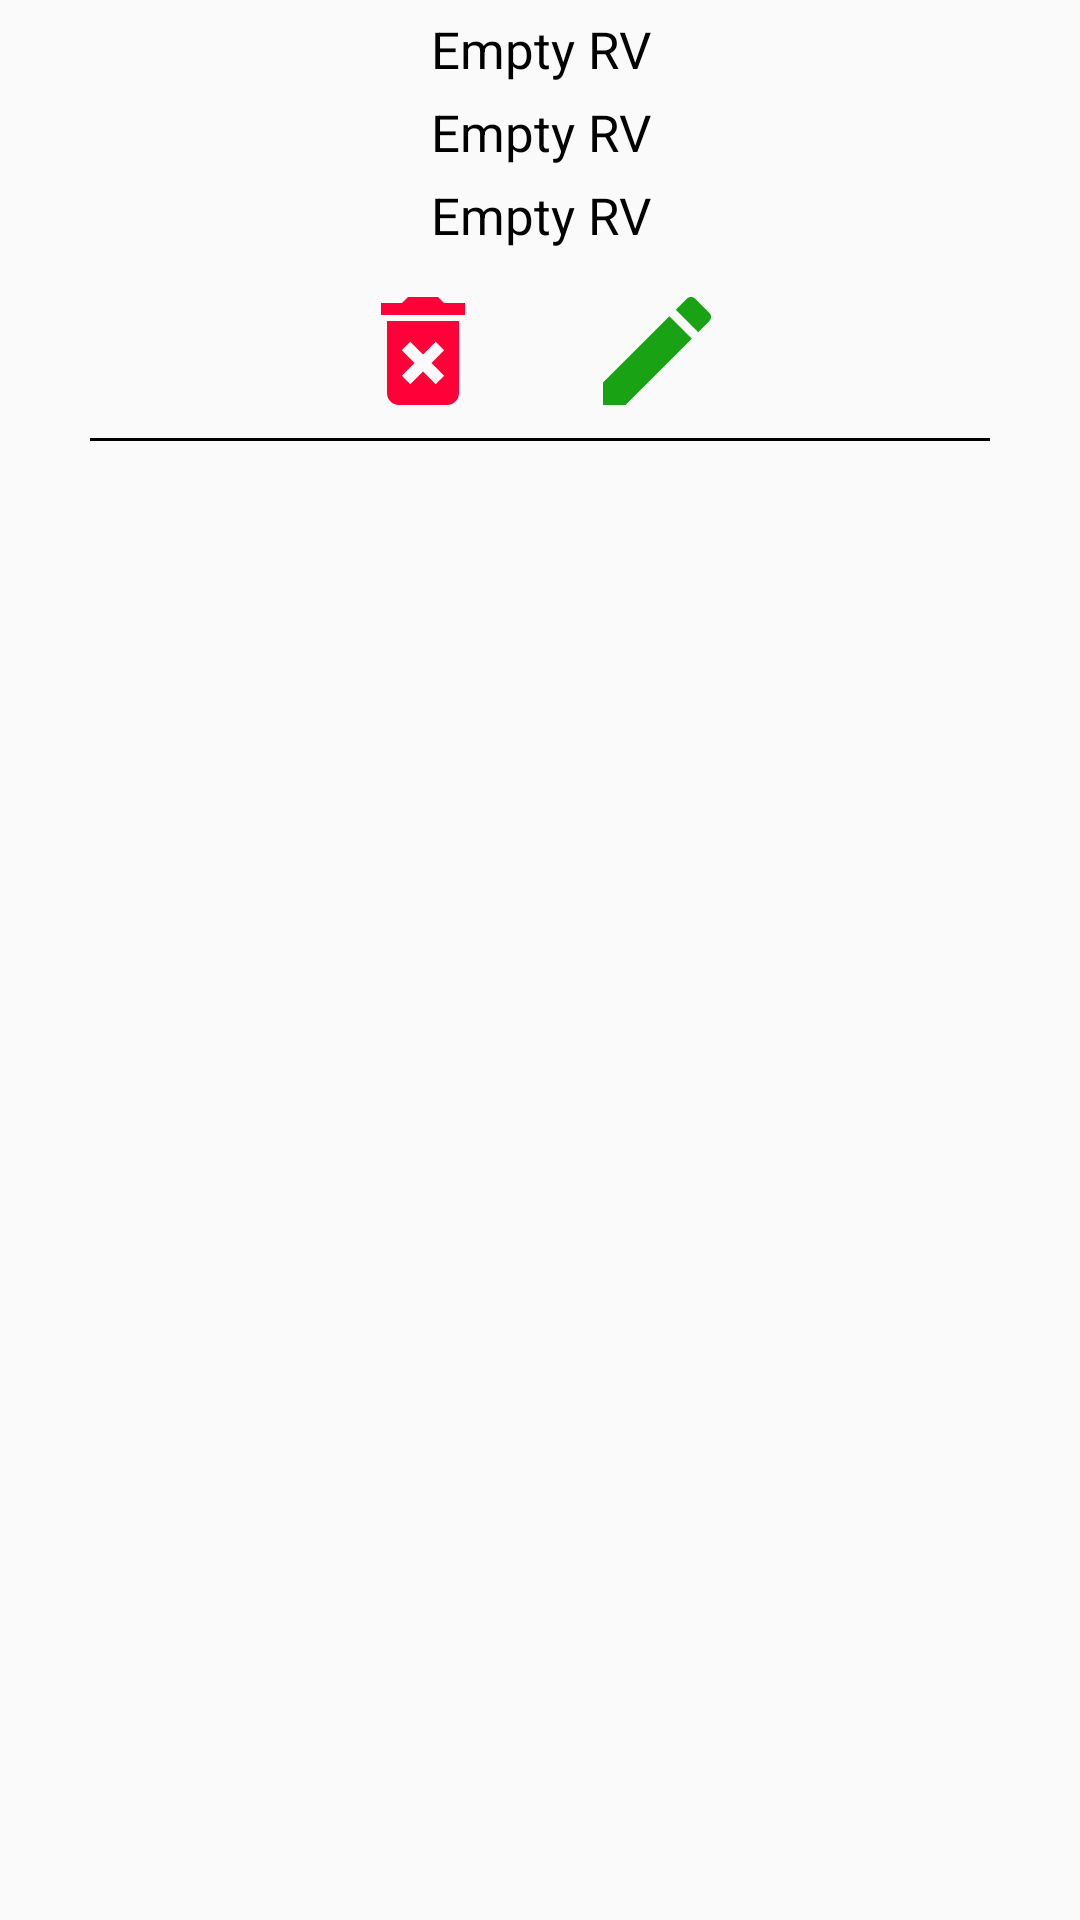

Named icons in this screenshot (1080×1920) and their bounding boxes, (left=x1, top=y1, right=x2, bottom=y2):
delete forever: (left=381, top=297, right=465, bottom=405)
modify: (left=603, top=297, right=711, bottom=405)
